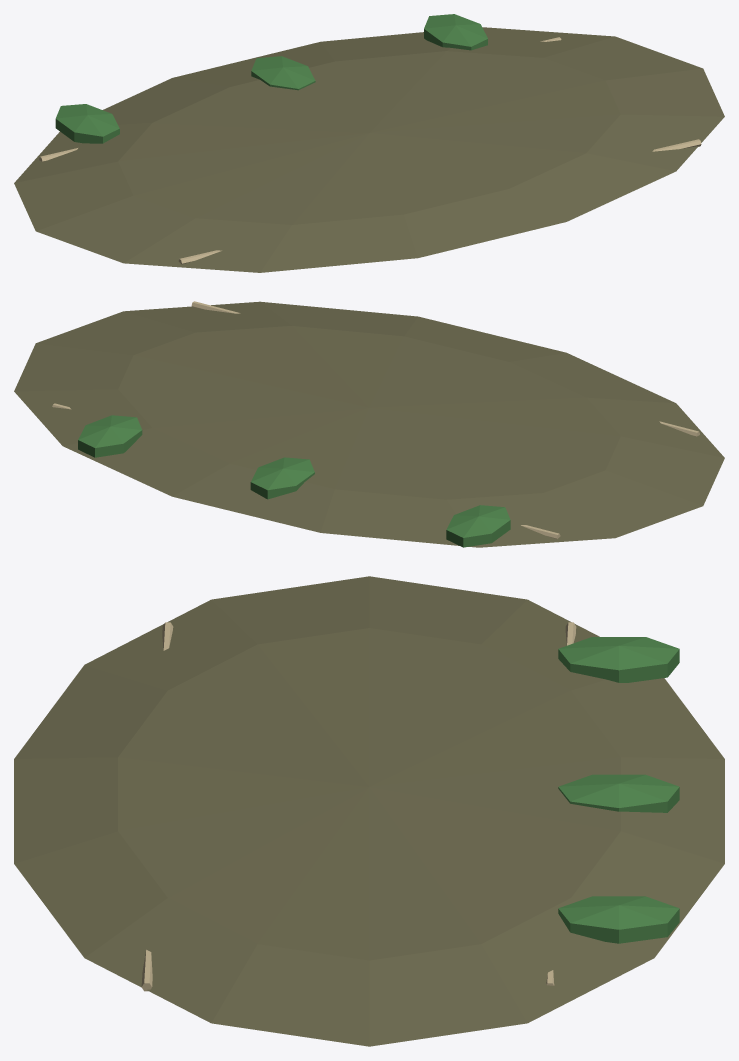
The model's file is floodplain_shelf_a.obj.
The picture shows the model from 3 angles, top to bottom: view 1: azimuth 30°, elevation 25°; view 2: azimuth 150°, elevation 25°; view 3: azimuth 270°, elevation 25°; orthographic projection. The views are drawn at different scales.
Visible parts, largest first — view 1: shelf, edge_growth, deposition_ripple; view 2: shelf, edge_growth, deposition_ripple; view 3: shelf, edge_growth, deposition_ripple.
Boxes of the visible parts, x1,y1,x2,y2 form: shelf: (14,27,724,272); edge_growth: (55,14,487,143); deposition_ripple: (39,37,701,264); shelf: (14,301,724,547); edge_growth: (78,415,510,547); deposition_ripple: (52,301,699,539); shelf: (14,576,724,1046); edge_growth: (558,637,679,943); deposition_ripple: (141,622,576,991).
Bounding box in the file's own units: 11.6 × 0.6 × 7.41.
